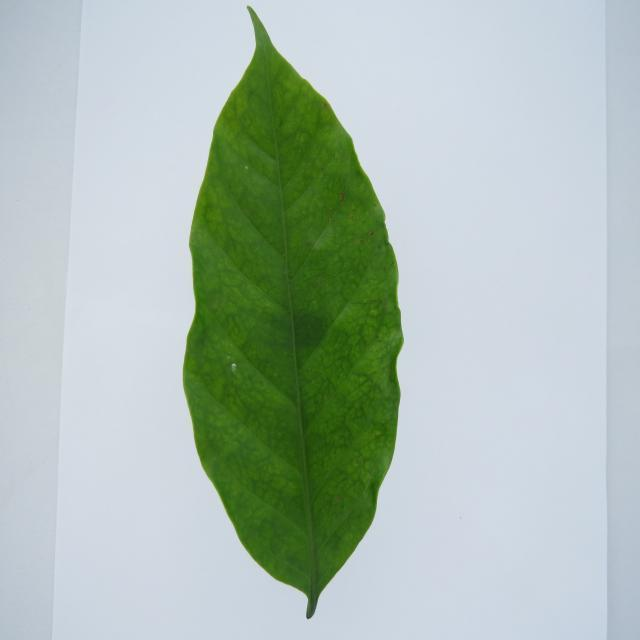DeficienciaNutricional-Hierro: (184, 8, 402, 618)
